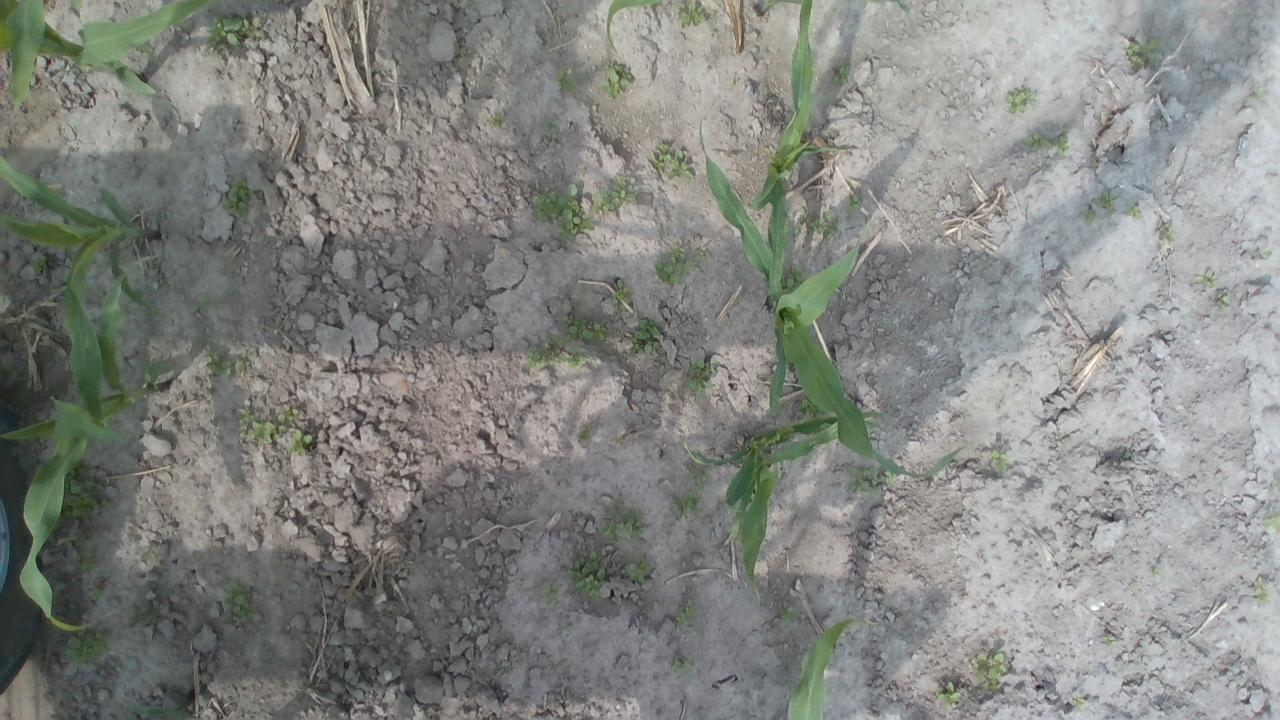Maize: (691, 113, 963, 479), (0, 211, 173, 633), (691, 410, 890, 600), (746, 0, 858, 303), (0, 152, 175, 322), (0, 0, 230, 98), (602, 0, 924, 58), (6, 0, 170, 110), (766, 614, 873, 720)
Weeds: (529, 184, 595, 246), (206, 11, 266, 59), (55, 464, 104, 518), (522, 334, 586, 371), (653, 242, 708, 285), (61, 628, 112, 670), (566, 550, 606, 603), (590, 173, 638, 215), (596, 505, 646, 542), (970, 651, 1010, 693), (650, 142, 694, 178), (222, 578, 256, 624), (234, 408, 274, 444), (219, 180, 254, 220), (682, 358, 717, 397), (792, 209, 839, 238), (562, 312, 608, 340), (602, 59, 634, 99), (846, 464, 881, 498), (1126, 34, 1160, 69), (631, 318, 663, 353), (126, 600, 162, 627), (204, 344, 232, 378), (1003, 89, 1037, 116), (70, 538, 95, 574), (276, 401, 300, 436), (671, 493, 702, 520), (610, 277, 632, 314), (781, 262, 808, 292), (675, 1, 705, 28), (628, 554, 654, 584), (286, 430, 313, 457), (986, 448, 1012, 476), (685, 460, 708, 491), (937, 680, 960, 711), (671, 653, 699, 677), (675, 599, 697, 627), (1254, 576, 1272, 604), (1192, 270, 1220, 288), (796, 397, 820, 418), (1157, 221, 1176, 247), (236, 351, 256, 374), (558, 68, 576, 93), (1053, 132, 1070, 158), (540, 582, 561, 603), (1094, 191, 1116, 211), (830, 62, 850, 84), (775, 604, 797, 623), (1263, 508, 1280, 532), (1023, 132, 1047, 149), (161, 707, 192, 720), (31, 253, 49, 275), (86, 584, 107, 602), (538, 118, 558, 135), (1080, 204, 1098, 222), (1072, 690, 1086, 712), (1249, 85, 1267, 101), (845, 196, 861, 214), (488, 113, 507, 128), (882, 470, 898, 487), (199, 292, 214, 310), (457, 48, 472, 66), (577, 425, 592, 442), (1126, 202, 1142, 217), (1100, 634, 1118, 647), (1217, 294, 1230, 312), (1150, 566, 1166, 578), (140, 550, 156, 562), (1271, 478, 1280, 492), (1260, 249, 1274, 258), (730, 75, 740, 84)
